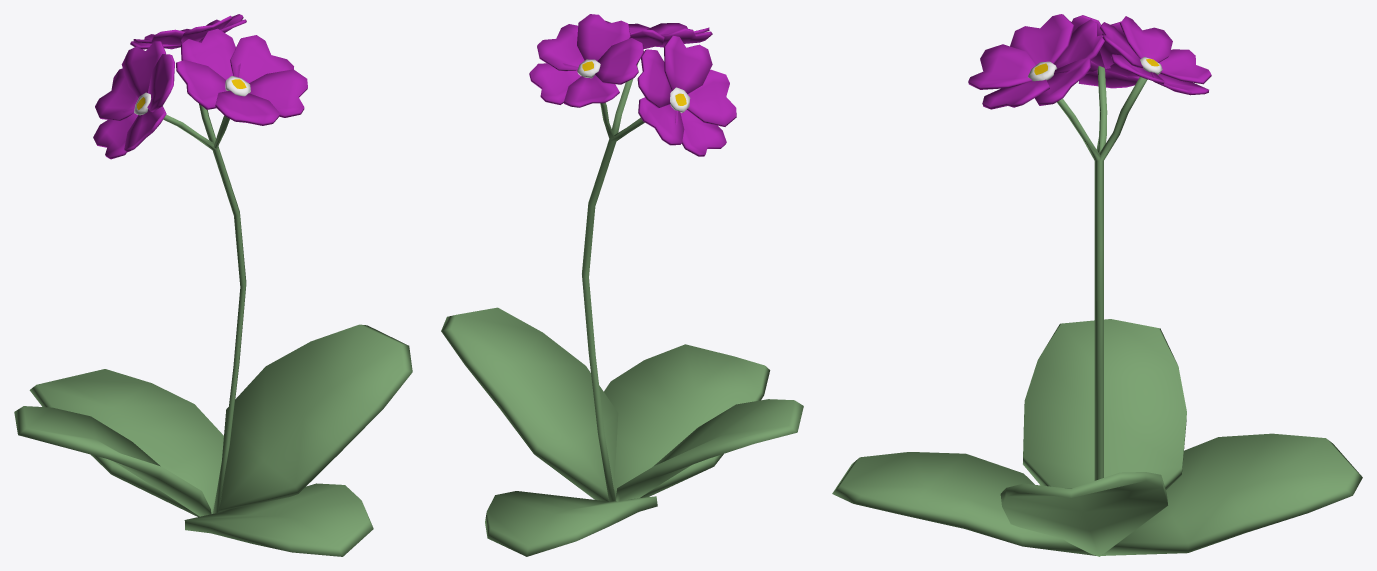
Rendered from ScottishPrimrose.fbx.
3 views of the same model, side by side, from view 1: azimuth 30°, elevation 25°; view 2: azimuth 150°, elevation 25°; view 3: azimuth 270°, elevation 25° (orthographic). The views are drawn at different scales.
Visible parts, largest first — view 1: ScottishPrimrose; view 2: ScottishPrimrose; view 3: ScottishPrimrose.
Boxes of the visible parts, x1,y1,x2,y2 form: ScottishPrimrose: (14,14,412,556); ScottishPrimrose: (441,14,803,556); ScottishPrimrose: (832,14,1362,556).
Bounding box in the file's own units: 0.4176 × 0.537 × 0.4897.
